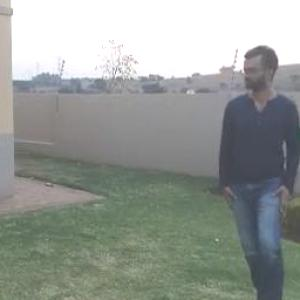follow: (205, 37, 284, 299)
